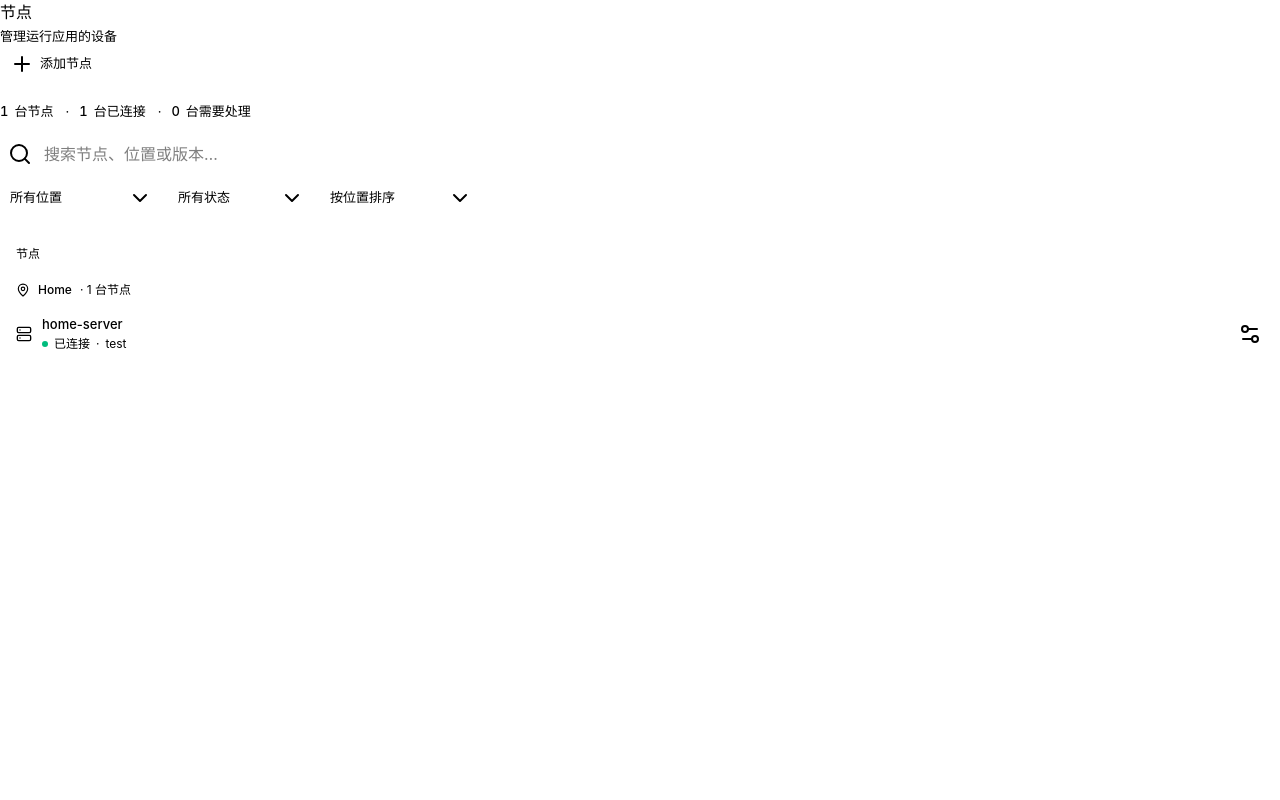
Test: landing-only node enrollment › requires managed private networking before enabling the purpose
The image size is (1280, 800).
What coordinates should you click on to do the following:
click the button "添加节点"
I would click on:
 (51, 64)
Its box is [0,48,102,80].
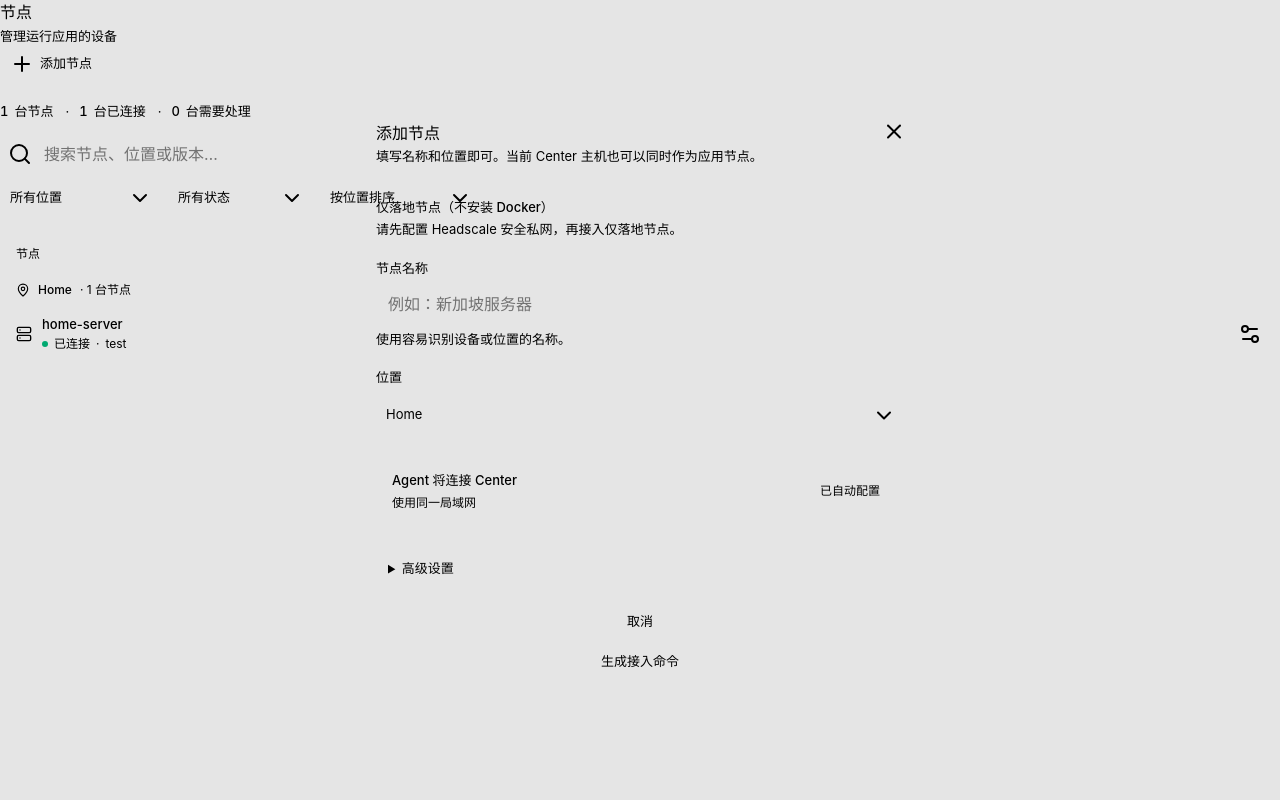
Expected: the checkbox with id "new-node-landing-only" is disabled, [376,199,554,217]
Expected: the text "请先配置 Headscale 安全私网" is shown, [376,222,682,238]
